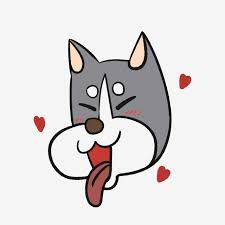Lobo: (37, 27, 186, 213)
